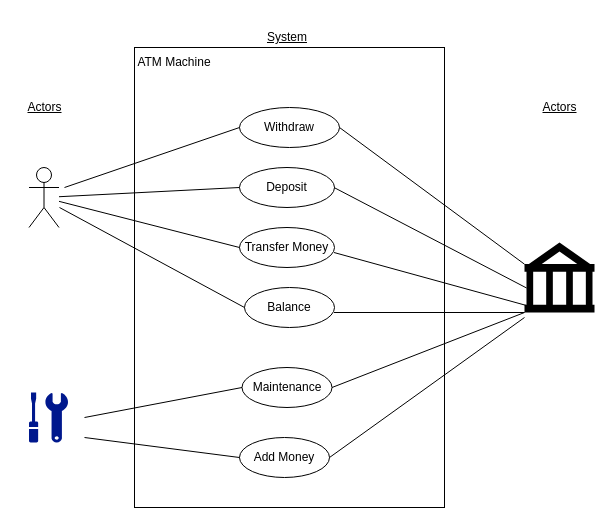
This 612x525 diagram has some shape labels left out. Each missing label, with the centre of its shape:
"Bank" belongs at [559,277].
"Technicians" belongs at [48,417].
"User" belongs at [43,197].
